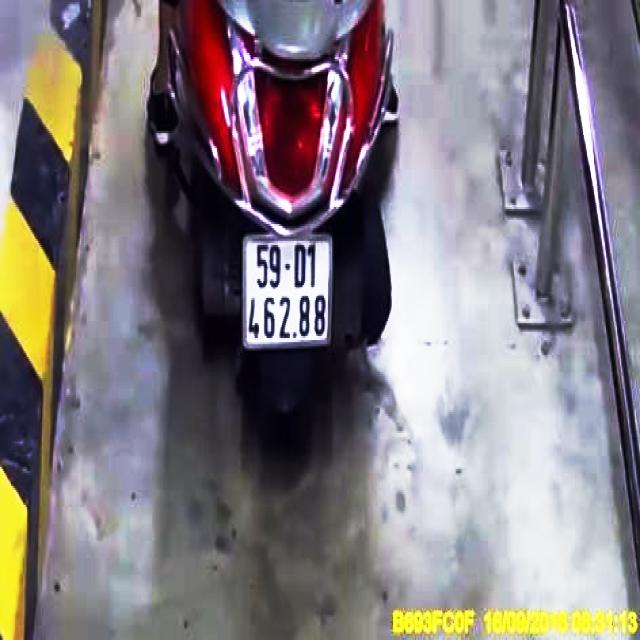license_plate: (244, 236, 331, 345)
